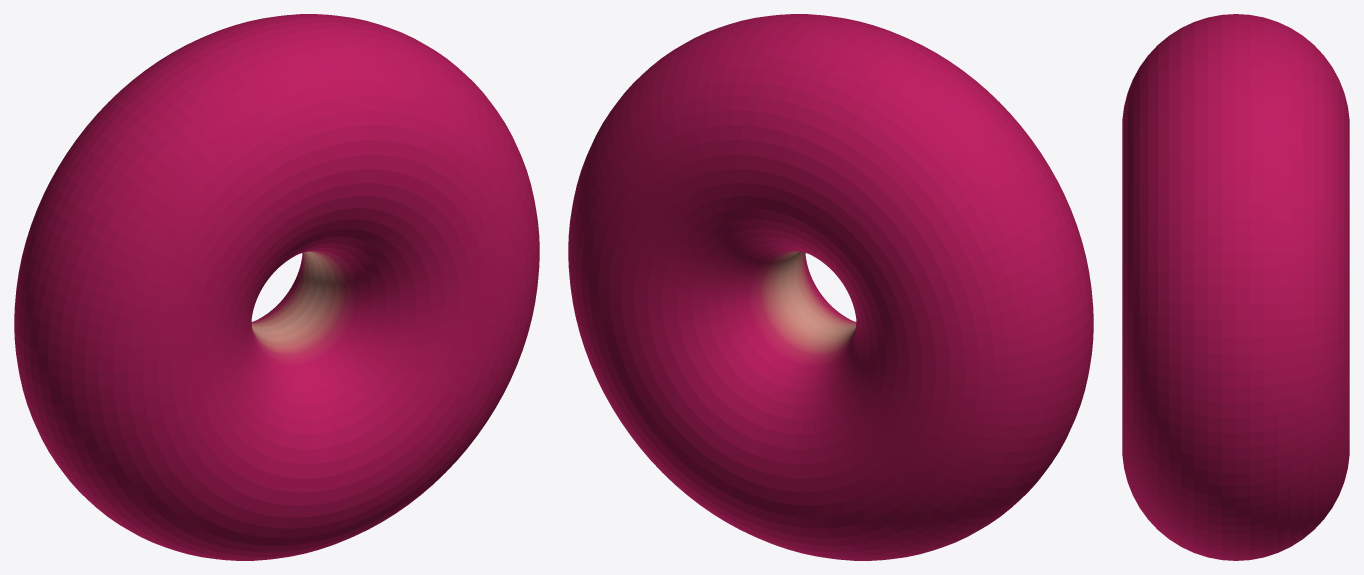
3 views of the same model, side by side, from view 1: azimuth 30°, elevation 25°; view 2: azimuth 150°, elevation 25°; view 3: azimuth 270°, elevation 25° (orthographic). The views are drawn at different scales.
Parts seen in each view (by area): view 1: world; view 2: world; view 3: world.
Boxes of the visible parts, bbox=[...] form: world: bbox=[14, 14, 539, 560]; world: bbox=[568, 14, 1093, 560]; world: bbox=[1122, 14, 1349, 560].
Size of the model in its own units: 24 by 24 by 9.98.
